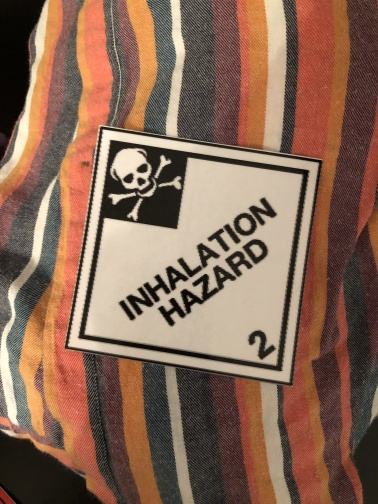InhalationHazard: (64, 126, 322, 387)
